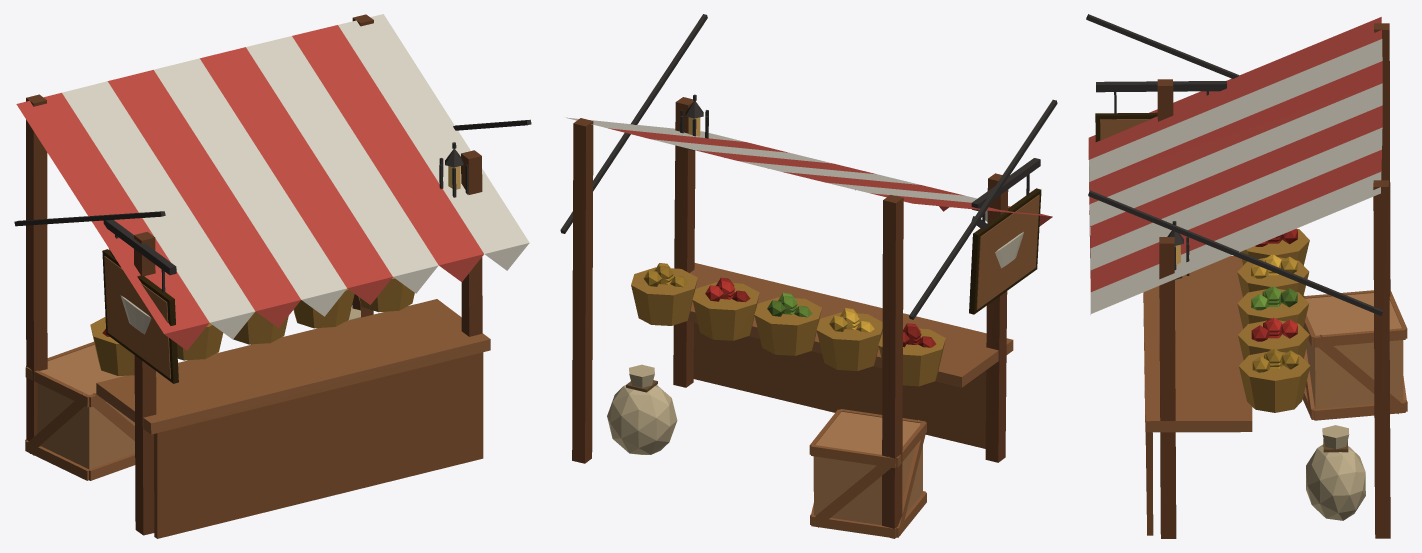
Rendered from fruit-stall.glb.
3 views of the same model, side by side, from view 1: azimuth 30°, elevation 25°; view 2: azimuth 150°, elevation 25°; view 3: azimuth 270°, elevation 25° (orthographic). The views are drawn at different scales.
Visible parts, largest first — view 1: props/fruit-stall; view 2: props/fruit-stall; view 3: props/fruit-stall.
Boxes of the visible parts, bbox=[...] form: props/fruit-stall: bbox=[14, 14, 531, 538]; props/fruit-stall: bbox=[560, 14, 1057, 538]; props/fruit-stall: bbox=[1086, 14, 1407, 538].
Bounding box in the file's own units: 2.77 × 2.54 × 2.08.
